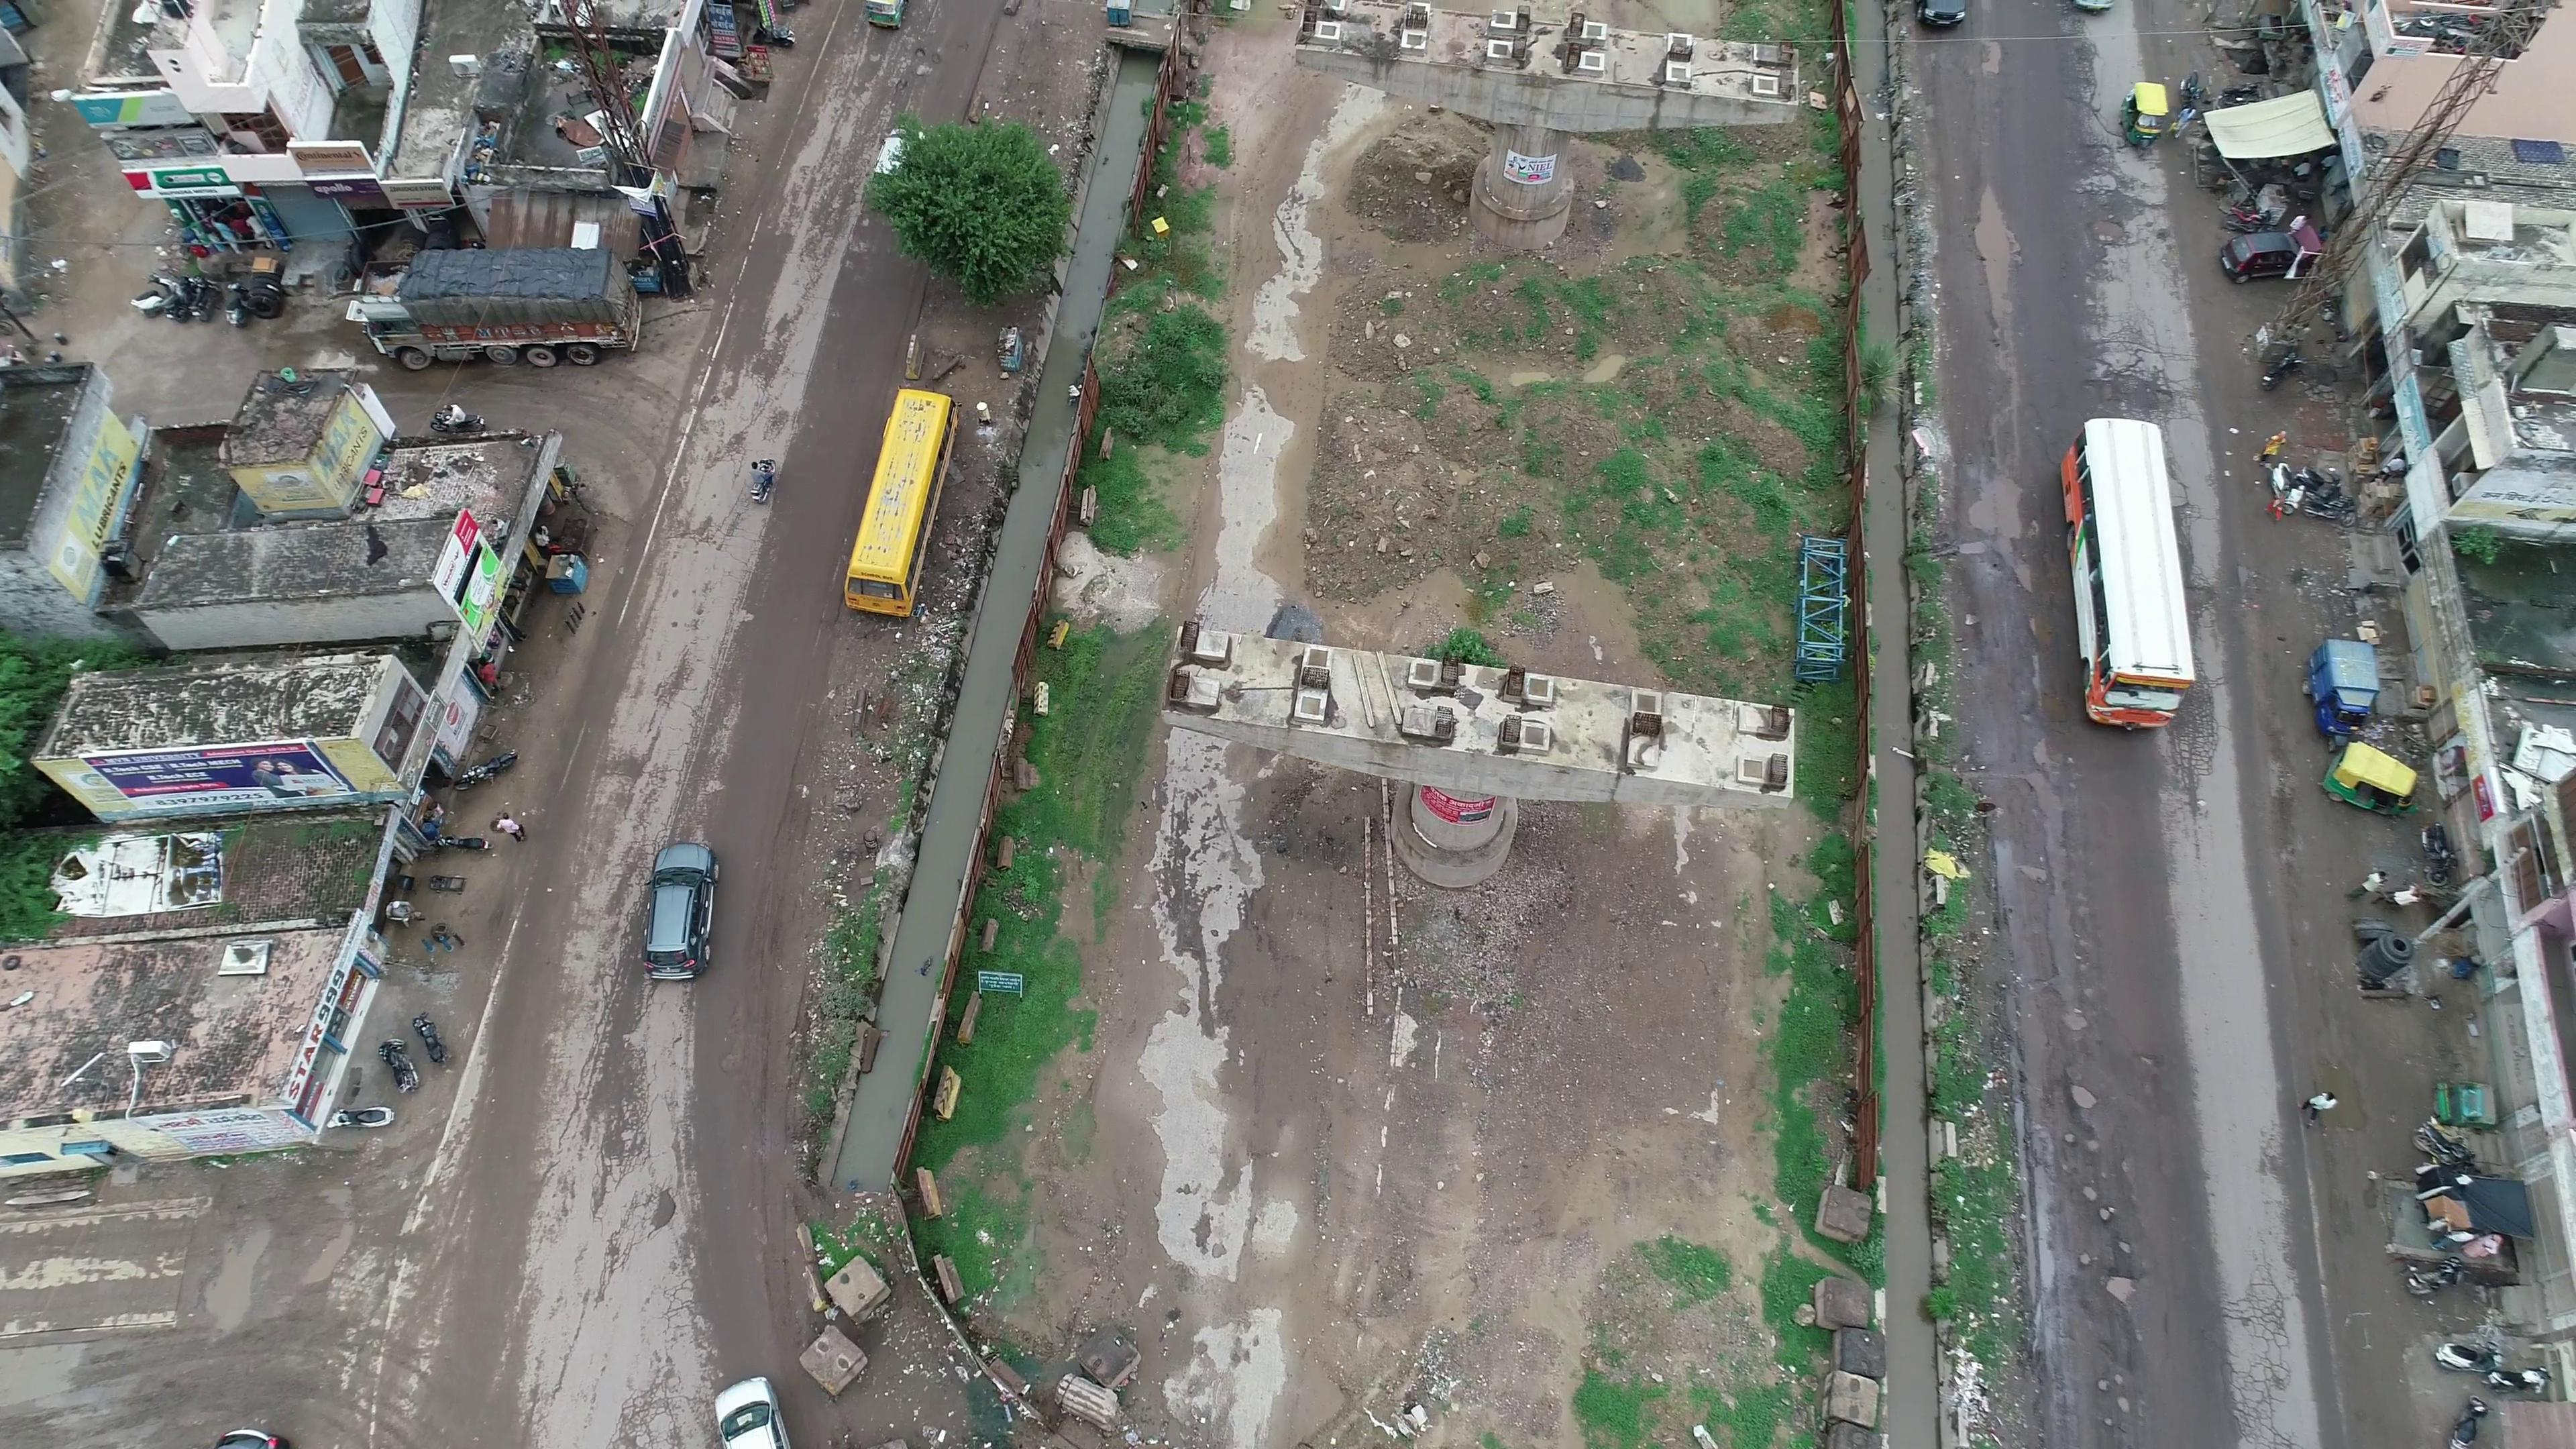Alligator_cracks: (2160, 667, 2236, 801)
Muddy_road: (717, 998, 793, 1286), (763, 488, 837, 616)
Potholes: (2045, 1065, 2151, 1277), (883, 37, 955, 103), (2070, 209, 2143, 258)
